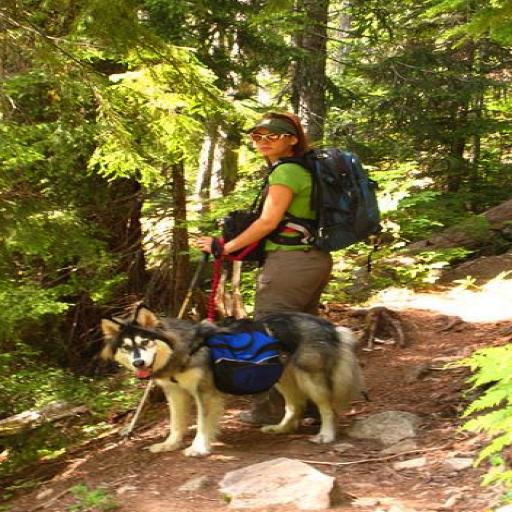dog_face: (96, 318, 177, 389)
